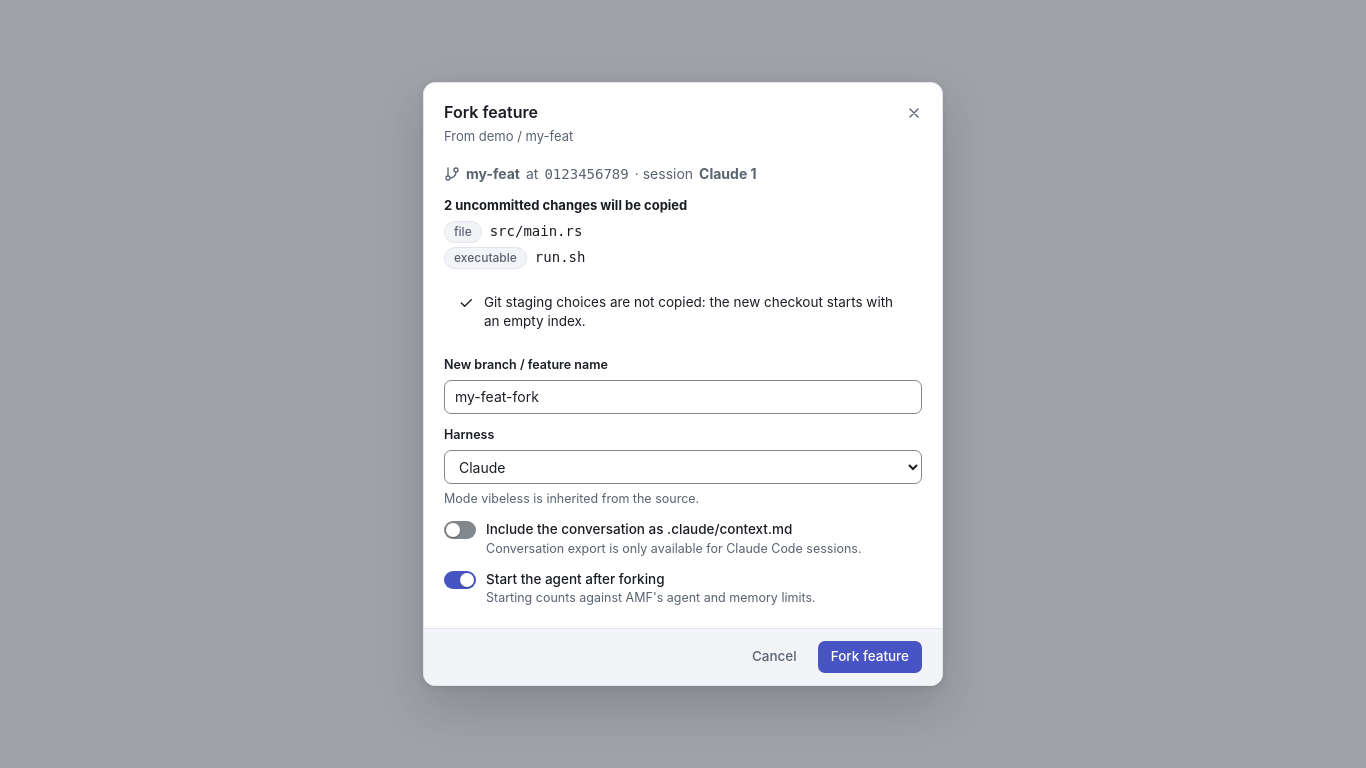
it: explains why no transcript is available (unsupported_harness) and never sends context
Check: the field labelled "New branch / feature name" is shown, box [444,380,922,414]
Check: the checkbox labelled "Include the conversation" is disabled, box [444,521,476,539]
Click the button "Fork feature" at coordinates (870, 656), box [818,640,922,672]
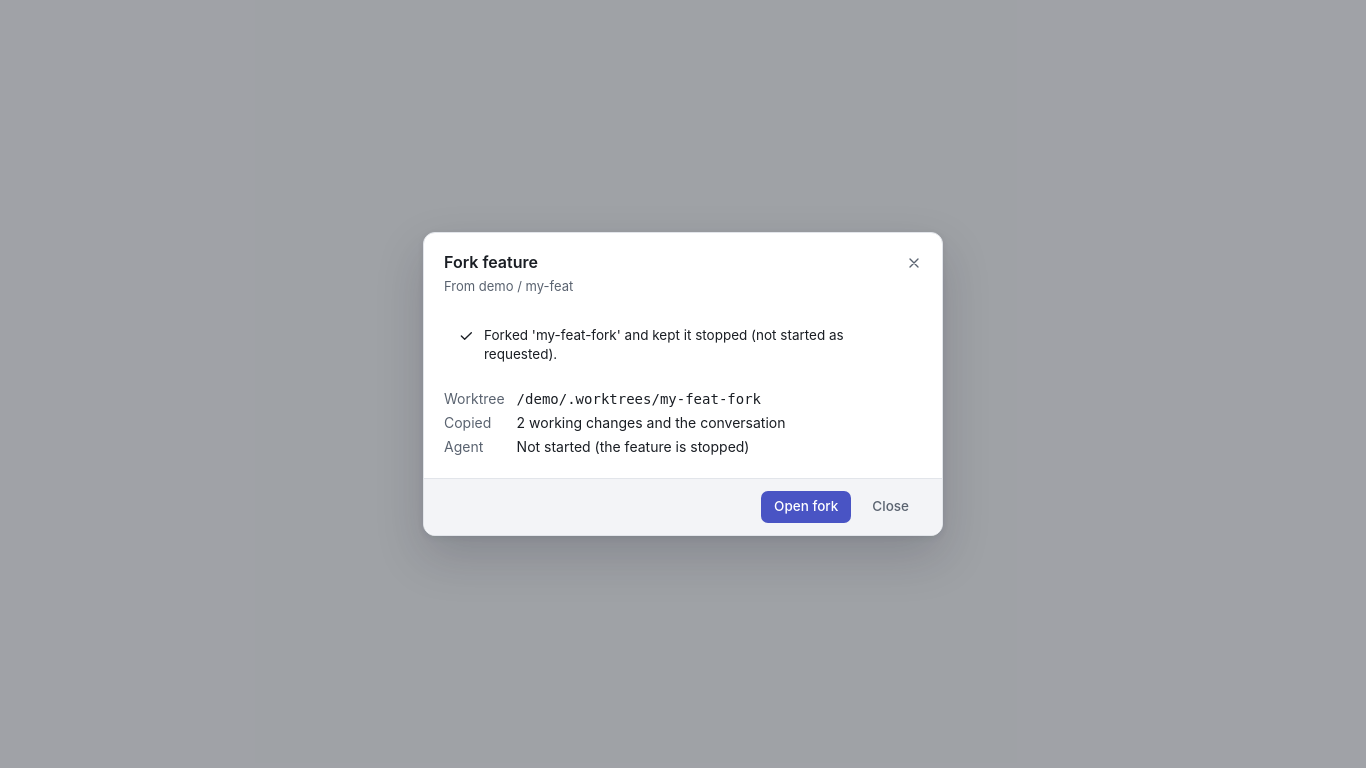
Check: the text "Forked" is shown, box [484,326,844,362]
